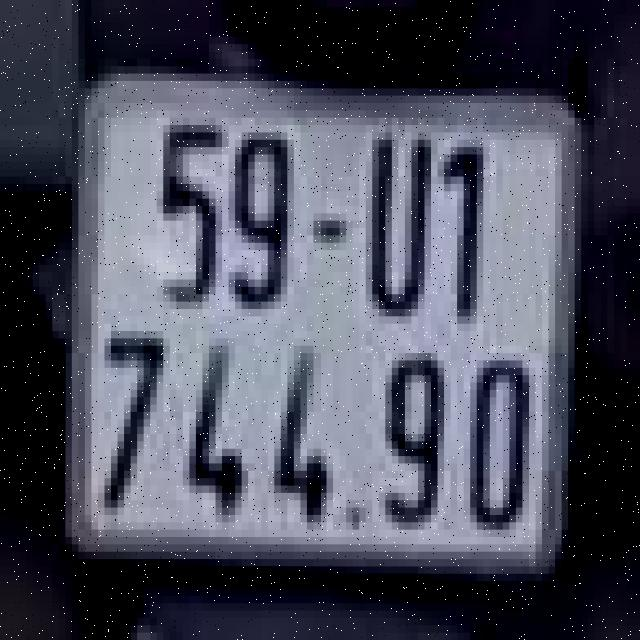0: (467, 346, 545, 530)
1: (448, 121, 487, 328)
4: (183, 342, 248, 519), (274, 335, 333, 511)
5: (140, 96, 226, 316)
7: (98, 302, 163, 537)
9: (362, 346, 454, 537), (222, 106, 307, 312)
U: (352, 107, 438, 327)
